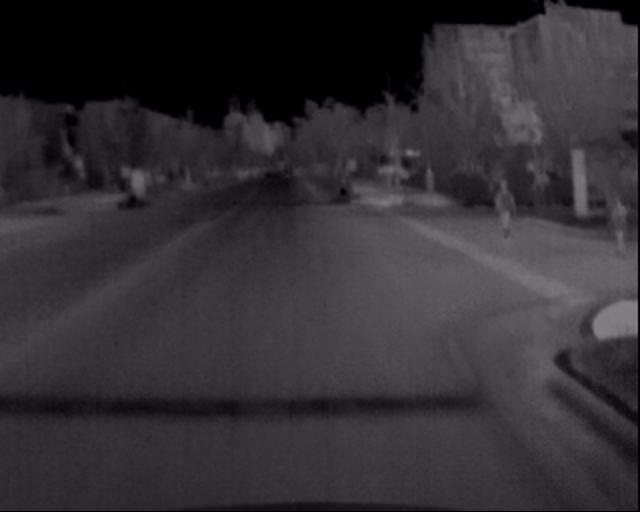person: (489, 174, 520, 247), (608, 189, 635, 259)
